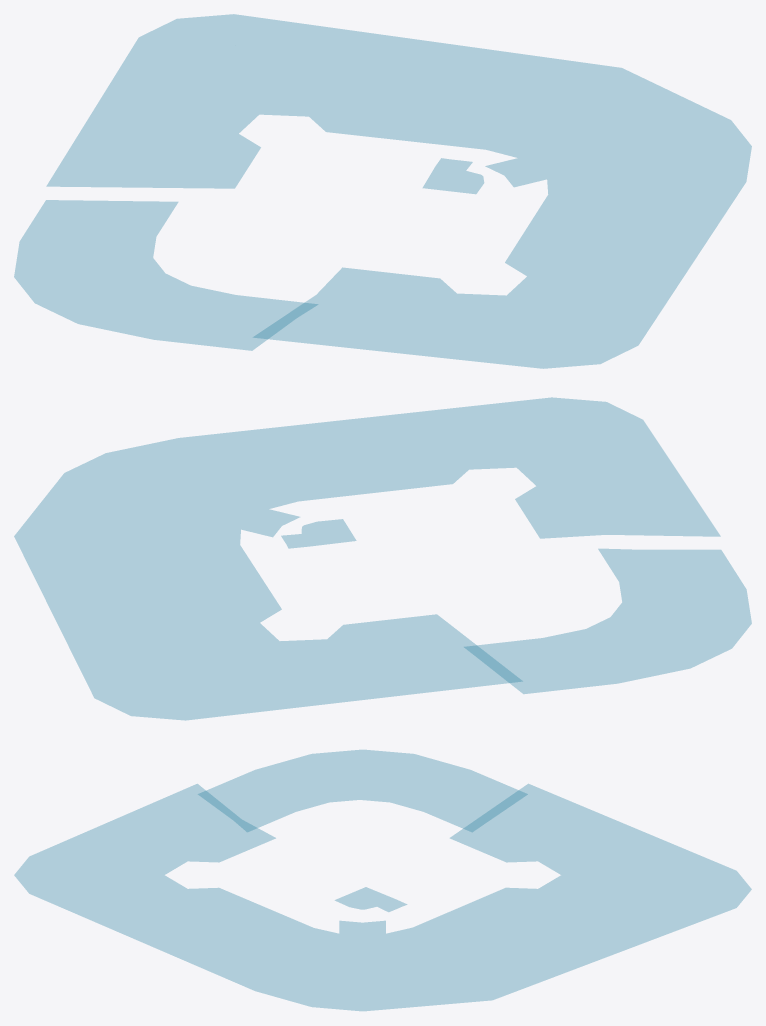
Rendered from MSH_ENV_SquareArena_Sea.FBX.
The picture shows the model from 3 angles, top to bottom: view 1: azimuth 30°, elevation 25°; view 2: azimuth 150°, elevation 25°; view 3: azimuth 270°, elevation 25°; orthographic projection. The views are drawn at different scales.
Visible parts, largest first — view 1: ENV_SquareArena_Sea; view 2: ENV_SquareArena_Sea; view 3: ENV_SquareArena_Sea.
Part boxes in pixels (x1,y1,x2,y2): ENV_SquareArena_Sea: [14, 14, 751, 368]; ENV_SquareArena_Sea: [14, 397, 751, 720]; ENV_SquareArena_Sea: [14, 750, 751, 1010].
Size of the model in its own units: 115 by 2.95 by 131.
